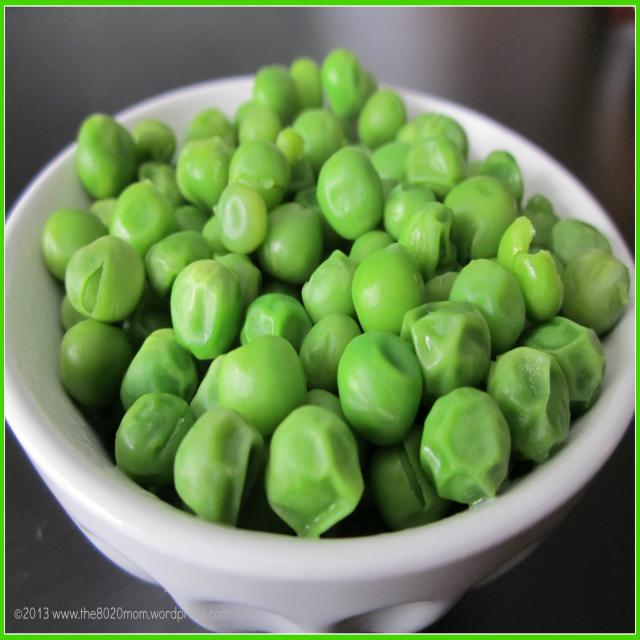pea: (66, 88, 616, 498)
